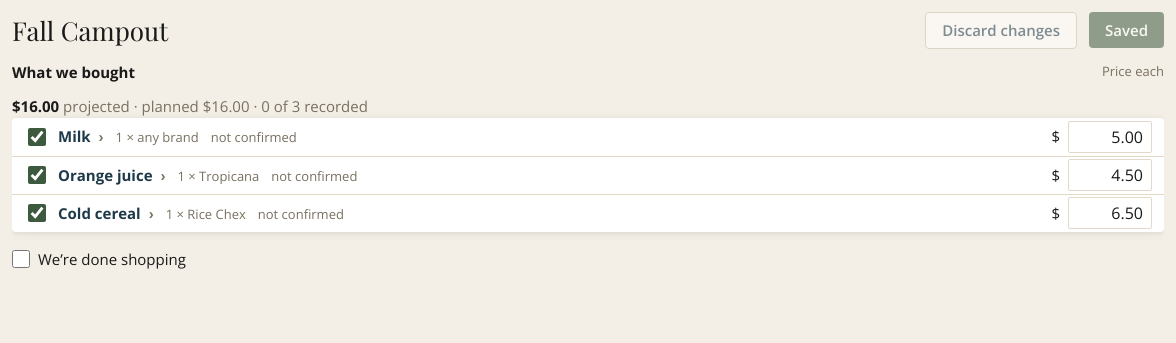
What we bought — the prefilled checklist › ABadPrice_StopsTheSave_AndSaysWhich
The image size is (1176, 343).
Step 1. Clear the field named "Price for Milk, dollars" → [1110, 136], box 1068,120 -> 1152,152
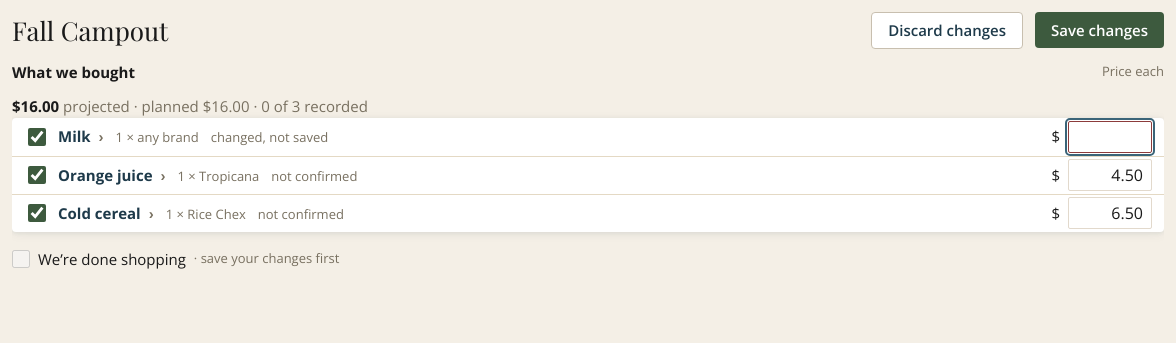
Step 2. Click the button "Save changes" → [1100, 30], box 1035,12 -> 1164,48
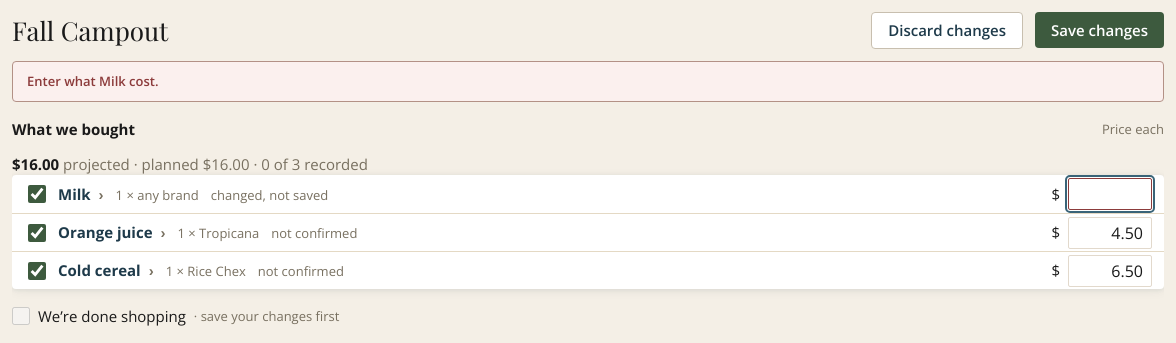
Now the text "Enter what Milk cost." is shown, box 12,60 -> 1164,102
